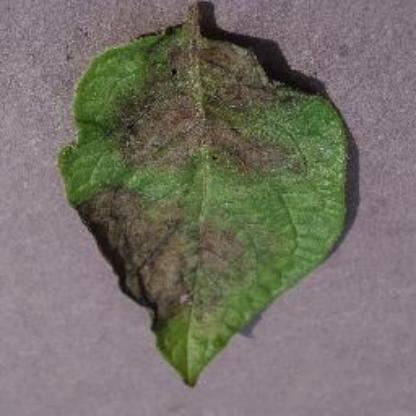Late-Blight: (57, 0, 360, 388)
